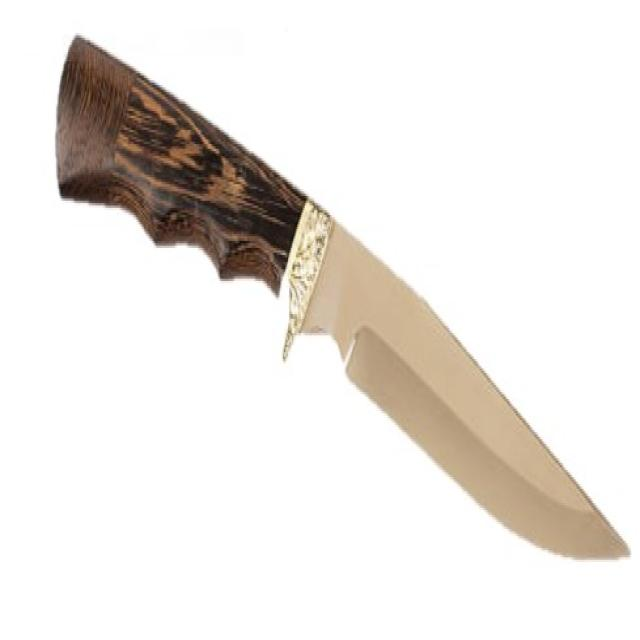knife: (49, 25, 640, 575)
